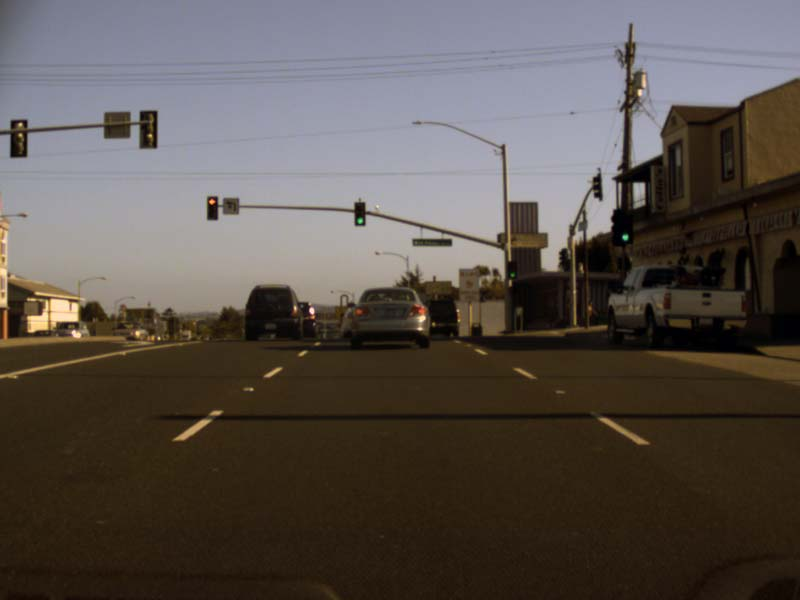Green: (613, 214, 633, 245), (353, 201, 364, 225), (506, 261, 517, 279)
Red: (206, 195, 217, 220)
